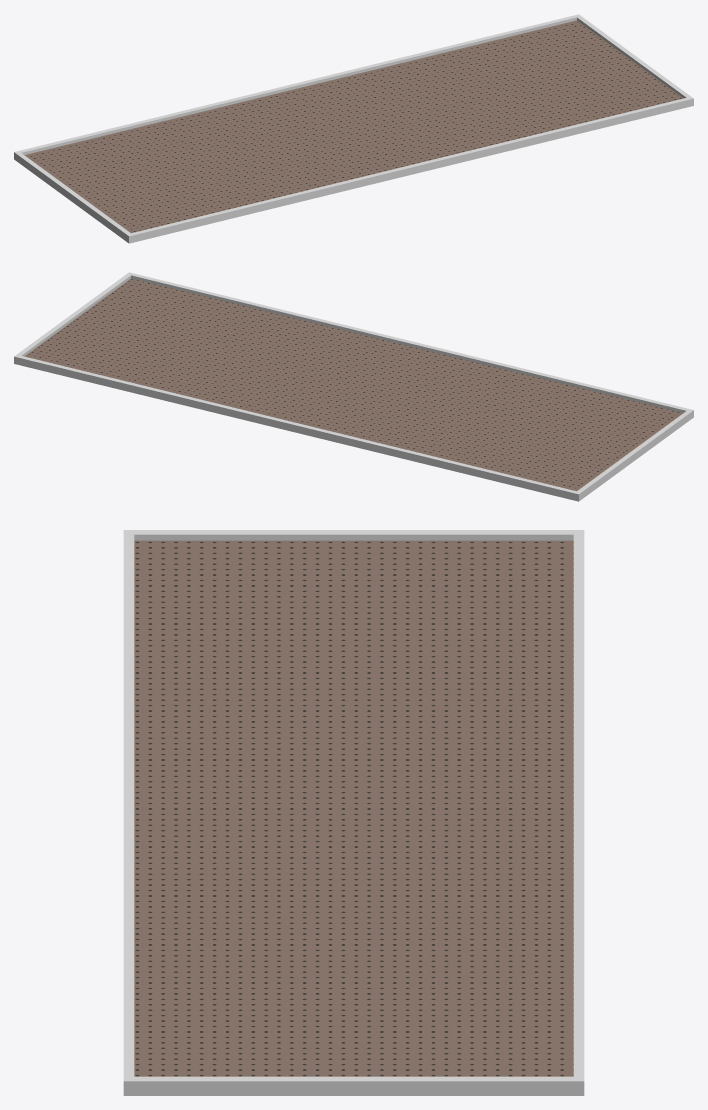
Rendered from rastrelliera_equipaggiamento.fbx.
3 views of the same model, one above another, from view 1: azimuth 30°, elevation 25°; view 2: azimuth 150°, elevation 25°; view 3: azimuth 270°, elevation 25° (orthographic). The views are drawn at different scales.
Visible parts, largest first — view 1: rastrelliera_equipaggiamento; view 2: rastrelliera_equipaggiamento; view 3: rastrelliera_equipaggiamento.
Boxes of the visible parts, left/top/right/bottom form: rastrelliera_equipaggiamento: left=14, top=14, right=693, bottom=243; rastrelliera_equipaggiamento: left=14, top=272, right=693, bottom=501; rastrelliera_equipaggiamento: left=123, top=530, right=584, bottom=1095.
Size of the model in its own units: 698 by 8.64 by 247.
